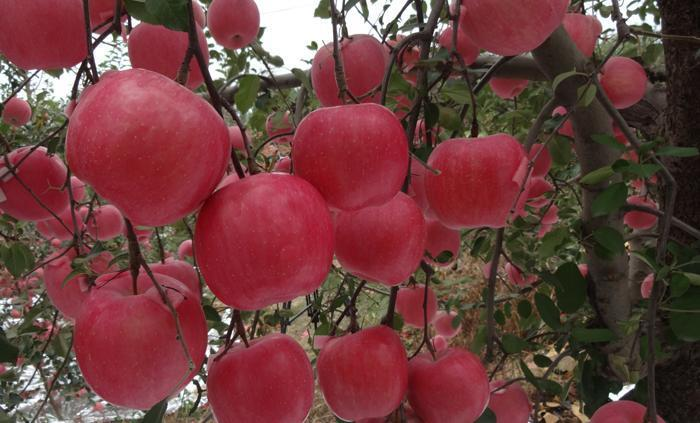apple: (61, 65, 233, 228), (190, 173, 329, 305), (74, 270, 208, 406), (294, 104, 414, 209), (425, 135, 530, 231), (204, 333, 314, 421), (315, 323, 409, 423), (311, 35, 419, 118), (333, 193, 425, 288), (454, 1, 575, 55), (409, 346, 487, 421), (1, 144, 71, 225), (43, 246, 120, 318), (205, 2, 261, 51), (598, 56, 648, 109), (2, 98, 32, 129)
